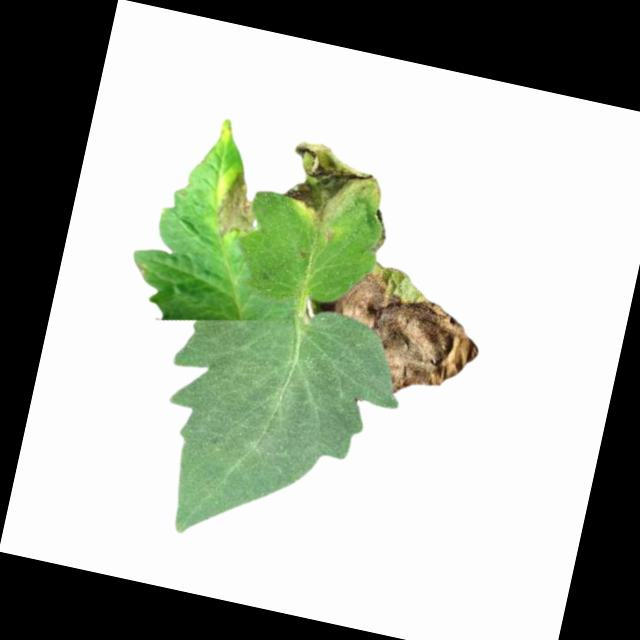Late_blight: (314, 262, 490, 410), (274, 137, 389, 243), (211, 167, 264, 243), (368, 205, 392, 252)
healthy: (137, 281, 414, 574)
